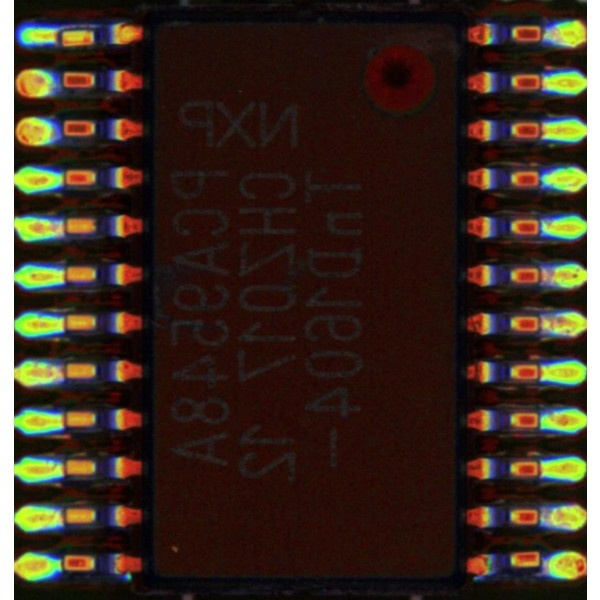Bad_podu: (529, 316, 562, 331), (46, 221, 83, 234), (526, 123, 558, 138), (526, 269, 560, 281), (42, 30, 69, 38)
Bad_qiaojiao: (61, 23, 104, 30)
